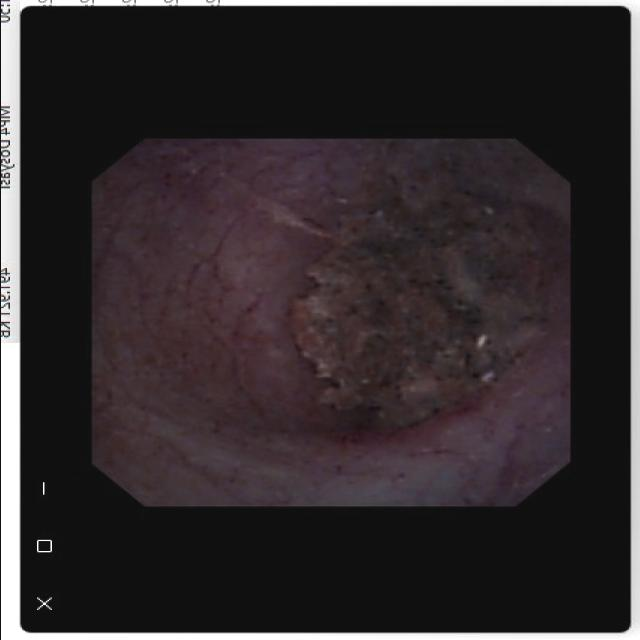stone: (293, 157, 544, 432)
tissue: (97, 143, 560, 502)
